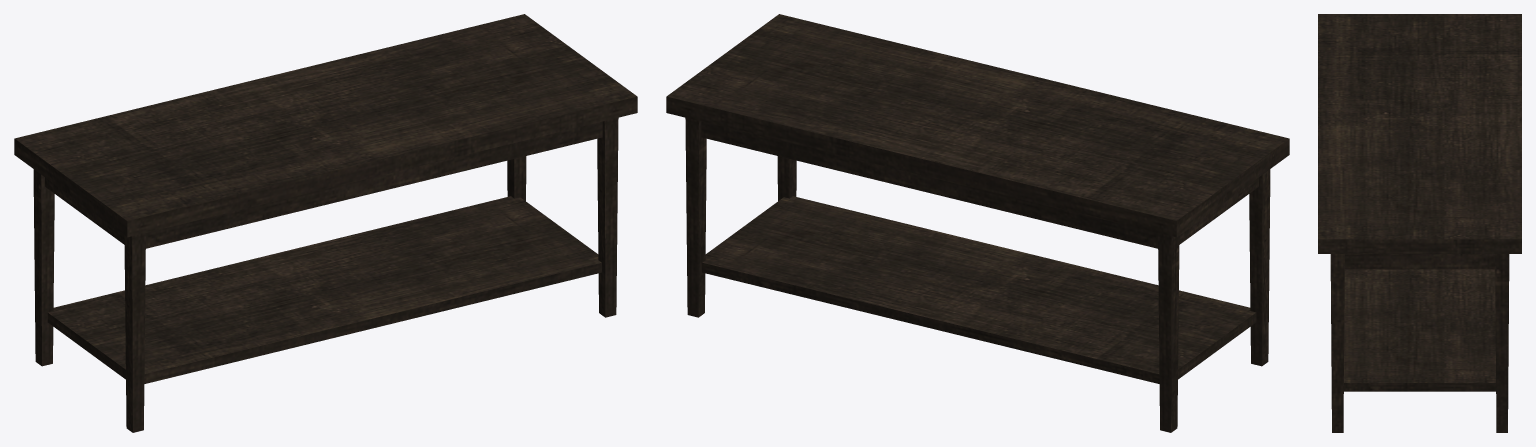
File: coffee_table_1_2.obj
3 renders of one model, left to right at view 1: azimuth 30°, elevation 25°; view 2: azimuth 150°, elevation 25°; view 3: azimuth 270°, elevation 25°, orthographic. The views are drawn at different scales.
Parts seen in each view (by area): view 1: coffee_table_1_2; view 2: coffee_table_1_2; view 3: coffee_table_1_2.
Part boxes in pixels (bbox=[...]): coffee_table_1_2: bbox=[14, 14, 637, 432]; coffee_table_1_2: bbox=[666, 14, 1289, 432]; coffee_table_1_2: bbox=[1318, 14, 1521, 432].
Bounding box in the file's own units: 1.62 × 0.67 × 0.62.
